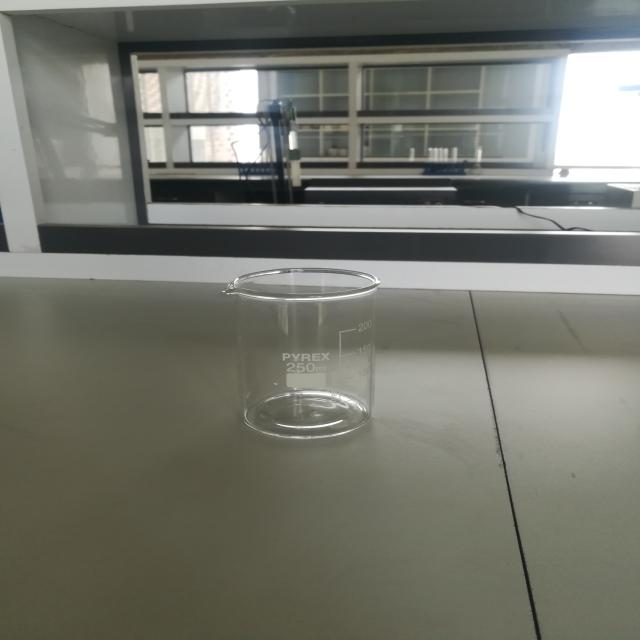Beaker: (187, 228, 411, 462)
